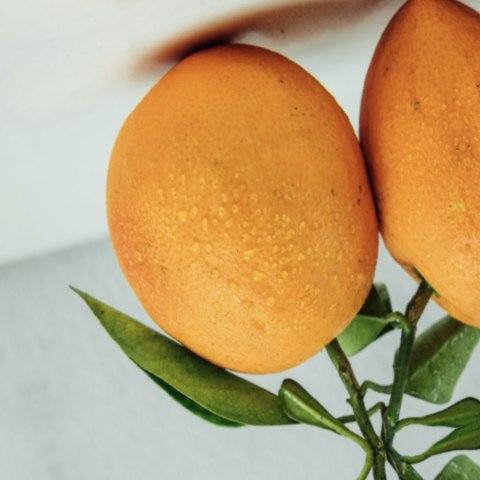orange: (37, 0, 450, 449)
